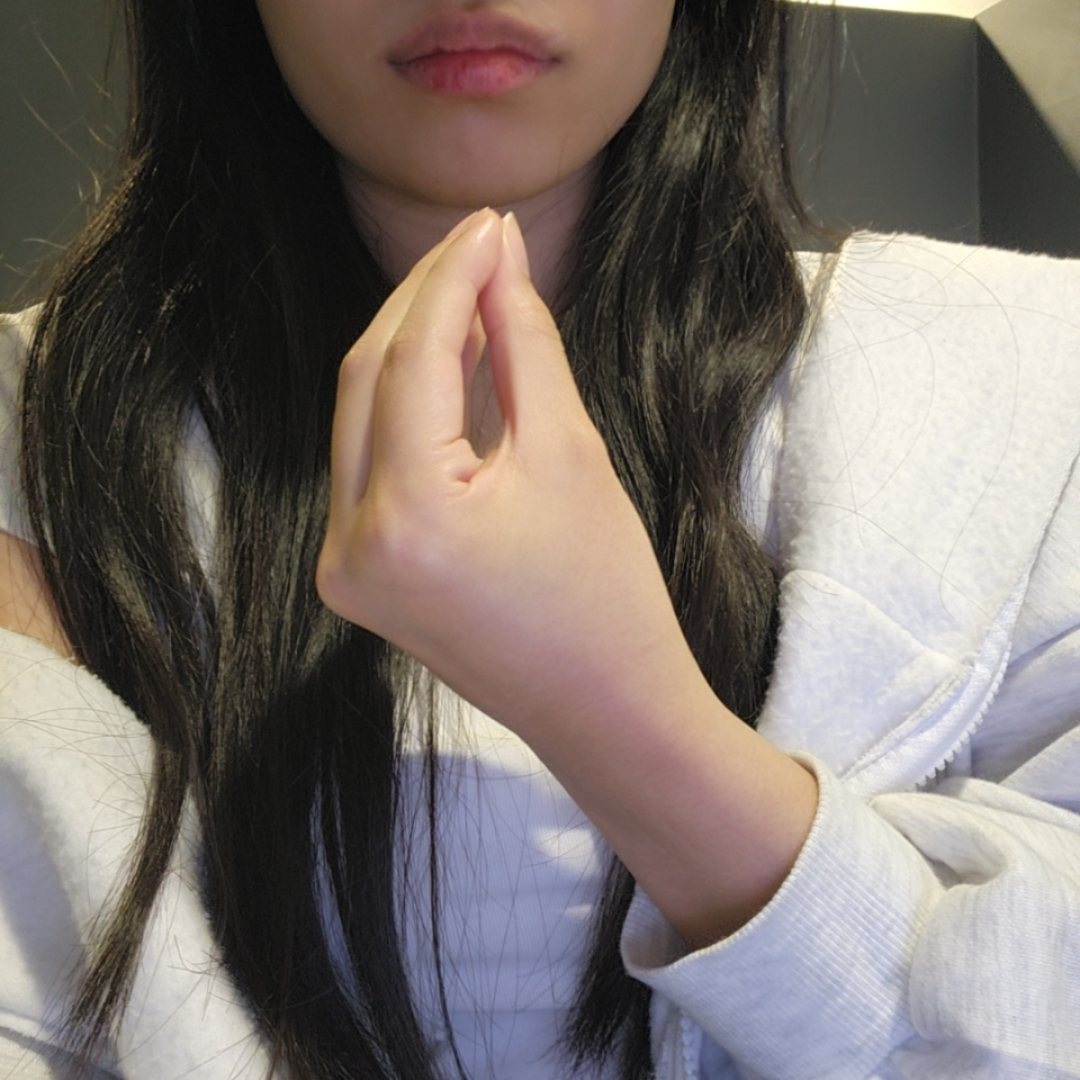happy: (310, 205, 671, 746)
